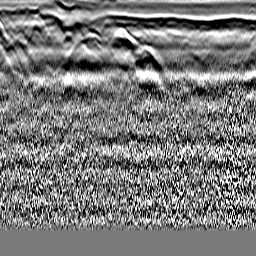cavity: (109, 26, 138, 50)
